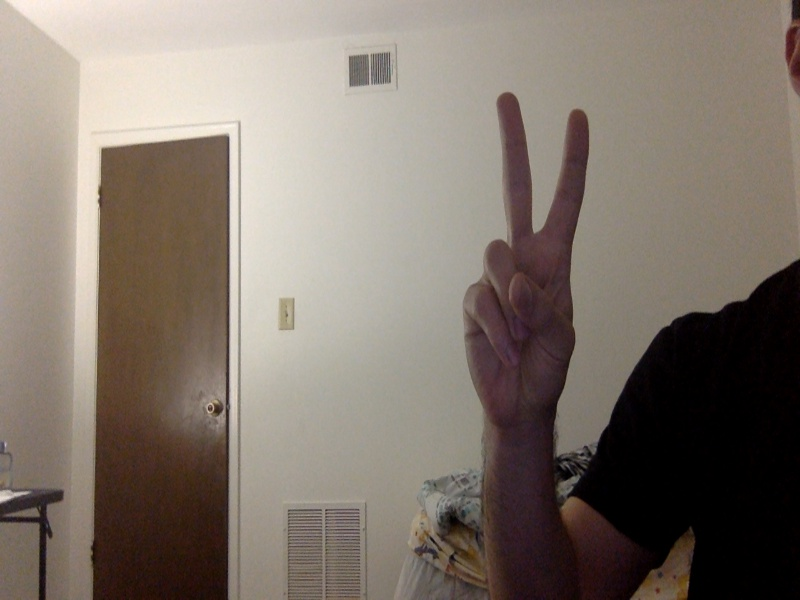2-hand: (461, 93, 591, 430)
